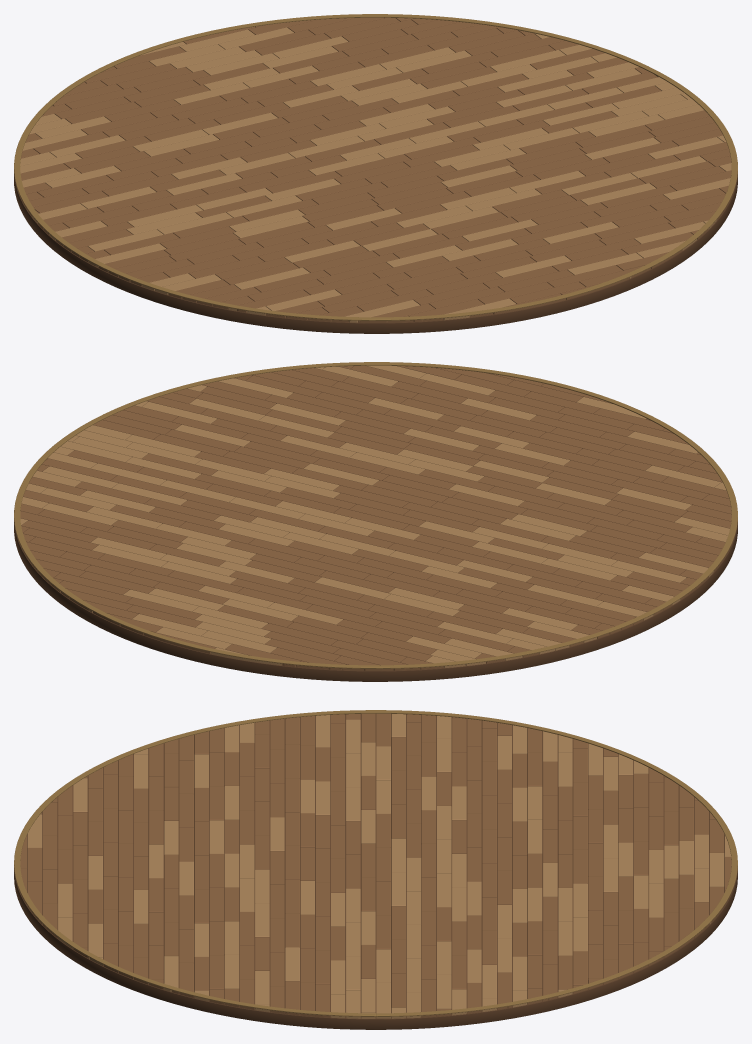
Rendered from SM_CP_TurntableDeck.fbx.
3 renders of one model, top to bottom at view 1: azimuth 30°, elevation 25°; view 2: azimuth 150°, elevation 25°; view 3: azimuth 270°, elevation 25°, orthographic.
Parts seen in each view (by area): view 1: SM_CP_TurntableDeck; view 2: SM_CP_TurntableDeck; view 3: SM_CP_TurntableDeck.
Part boxes in pixels (box(x1,y1,x2,y2)): SM_CP_TurntableDeck: box(14, 14, 737, 333); SM_CP_TurntableDeck: box(14, 362, 737, 681); SM_CP_TurntableDeck: box(14, 710, 737, 1029).
Size of what is drawn, in the model's own units: 1720 by 1720 by 37.
